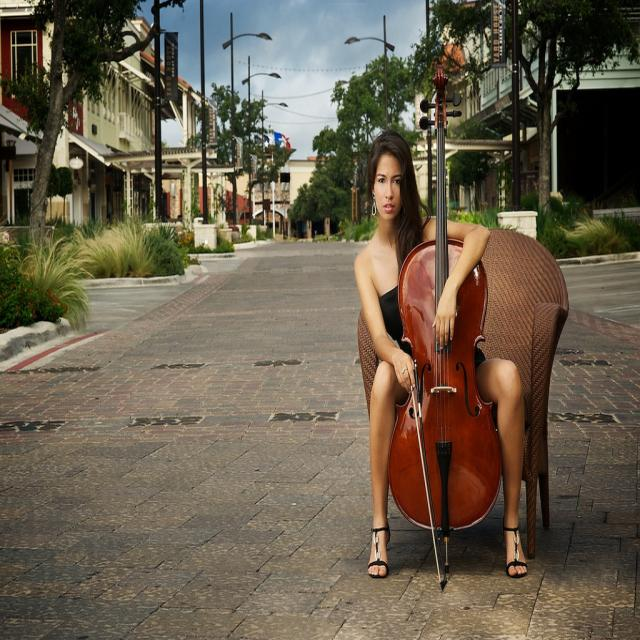cello: (382, 62, 508, 536)
